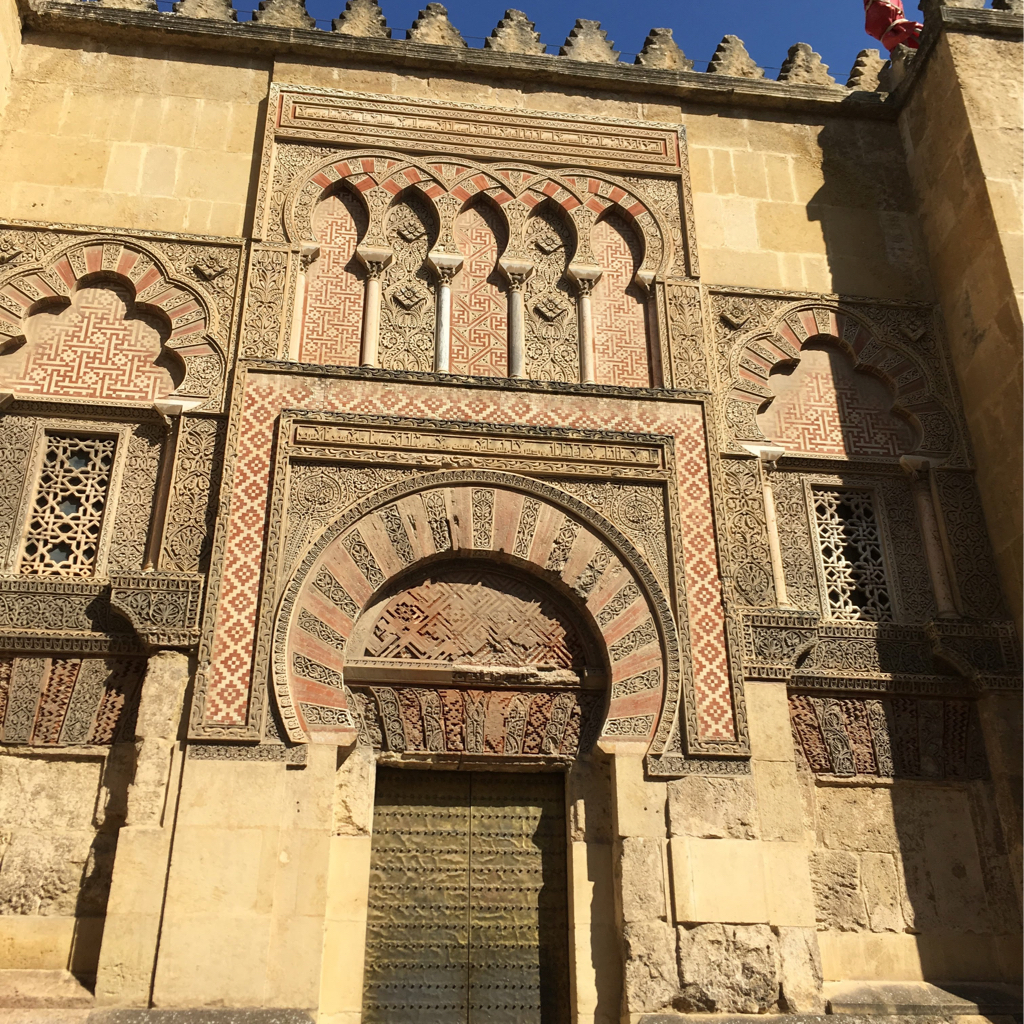arco-herradura: (302, 517, 640, 779), (292, 152, 450, 274), (372, 159, 518, 289), (513, 170, 653, 292), (446, 175, 585, 294)
arco-lobulado: (15, 253, 204, 420), (750, 316, 935, 481)
dintel-adovelado: (346, 672, 613, 768)
